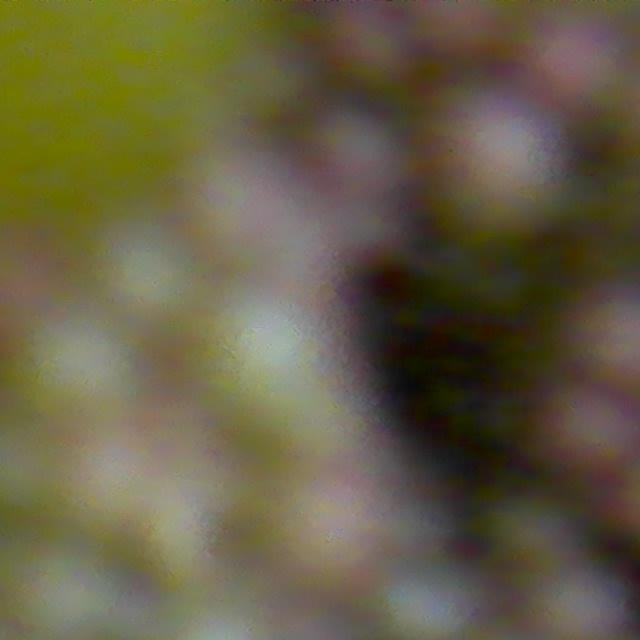SeaGrape: (296, 113, 402, 205), (307, 0, 407, 88), (520, 23, 614, 115), (372, 564, 475, 640), (548, 389, 638, 473), (536, 563, 634, 640), (414, 0, 514, 73)
